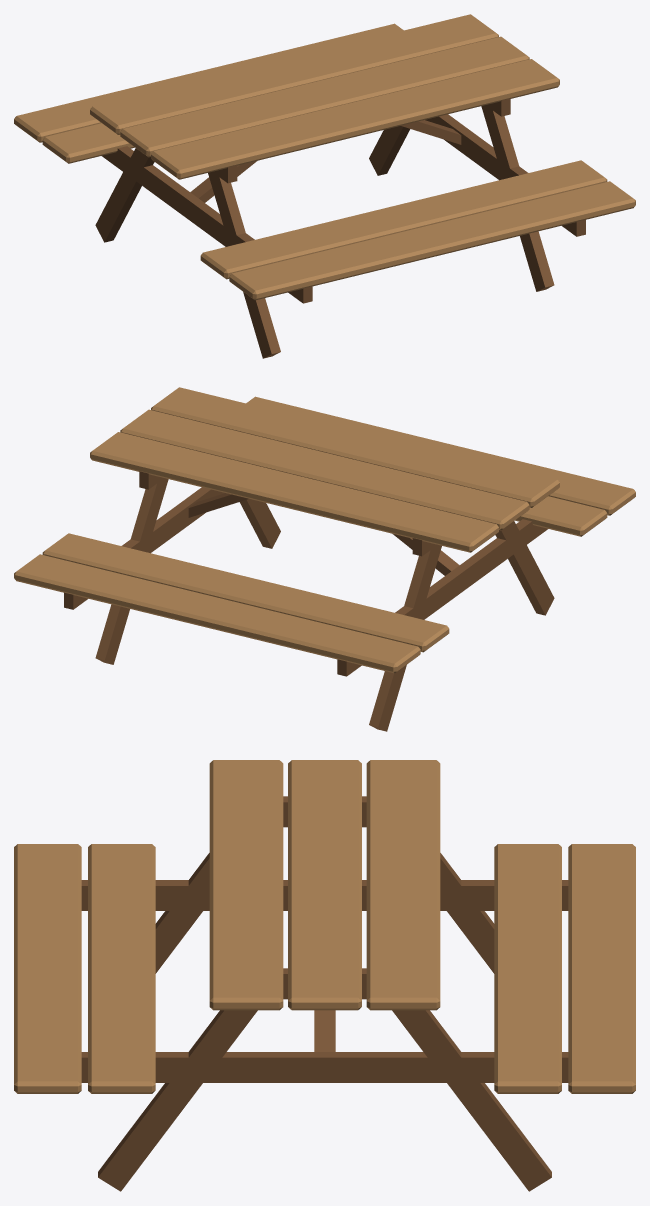
Rendered from picnic_table.glb.
3 views of the same model, one above another, from view 1: azimuth 30°, elevation 25°; view 2: azimuth 150°, elevation 25°; view 3: azimuth 270°, elevation 25° (orthographic). The views are drawn at different scales.
Parts seen in each view (by area): view 1: Table; view 2: Table; view 3: Table.
Boxes of the visible parts, box(x1,y1,x2,y2) form: Table: box(14, 14, 635, 358); Table: box(14, 387, 635, 731); Table: box(14, 760, 635, 1191).
Bounding box in the file's own units: 1.85 × 0.8029 × 2.02.
